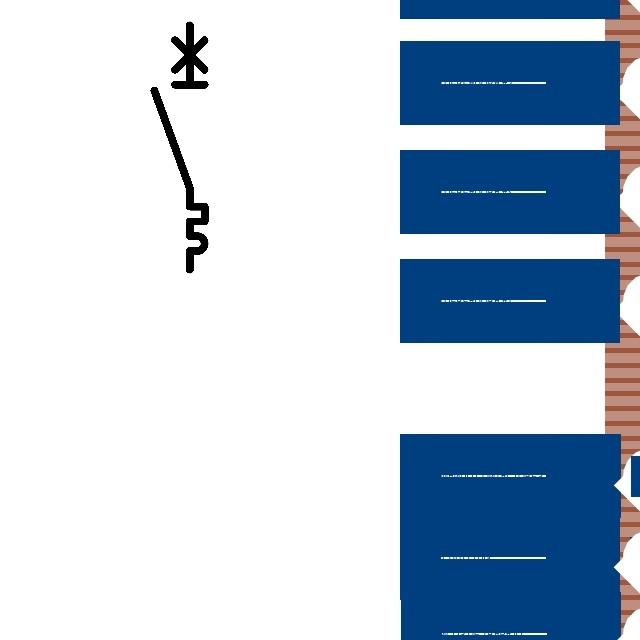interruptor_termomagnetico: (148, 19, 211, 276)
